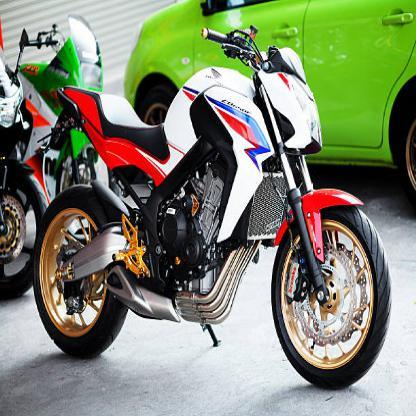Motorcycle: (32, 22, 393, 388)
